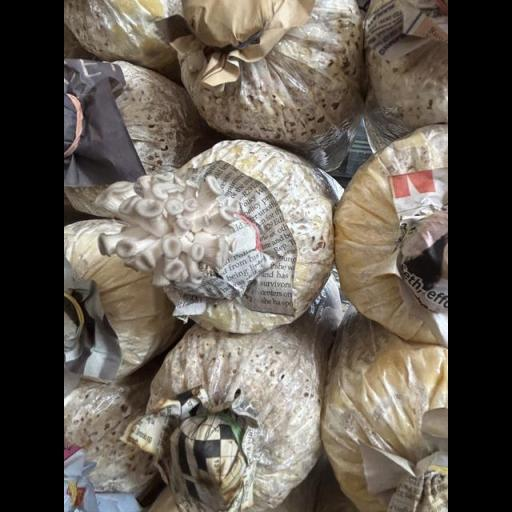White Oyster Mushroom: (91, 170, 241, 292)
